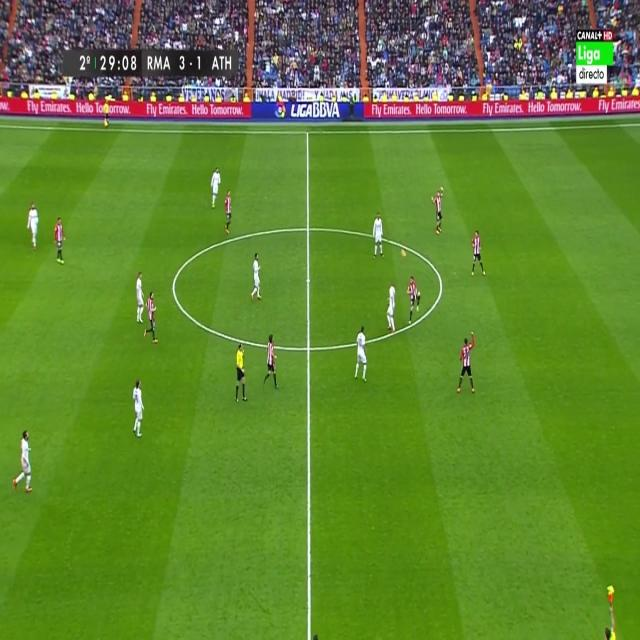Ball: (400, 248, 408, 261)
Player: (11, 425, 35, 498), (454, 330, 478, 398), (260, 332, 282, 394), (428, 183, 448, 239), (352, 324, 370, 386), (143, 288, 160, 346), (51, 214, 68, 268), (469, 225, 486, 278), (405, 274, 422, 326), (132, 376, 146, 439), (370, 211, 386, 262), (384, 279, 398, 335), (248, 251, 263, 303), (26, 200, 40, 250), (134, 268, 146, 326), (208, 164, 222, 212), (223, 187, 234, 240)
Referee: (232, 338, 249, 406), (600, 600, 619, 640), (102, 100, 110, 130)
